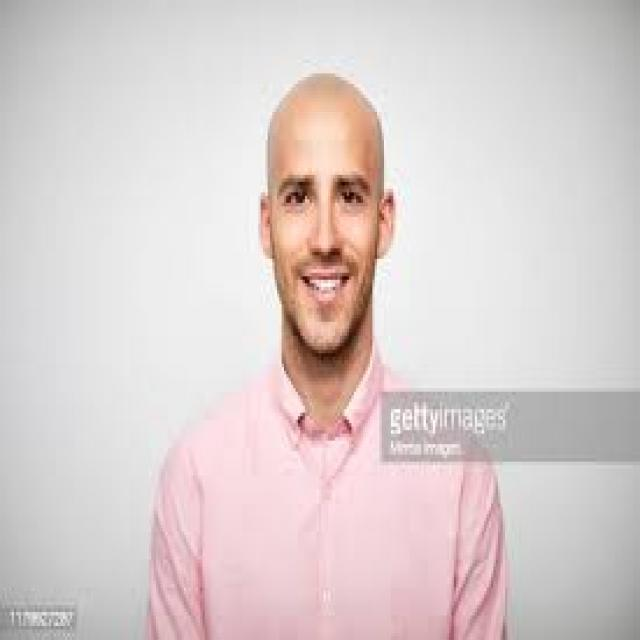bald: (255, 57, 397, 203)
